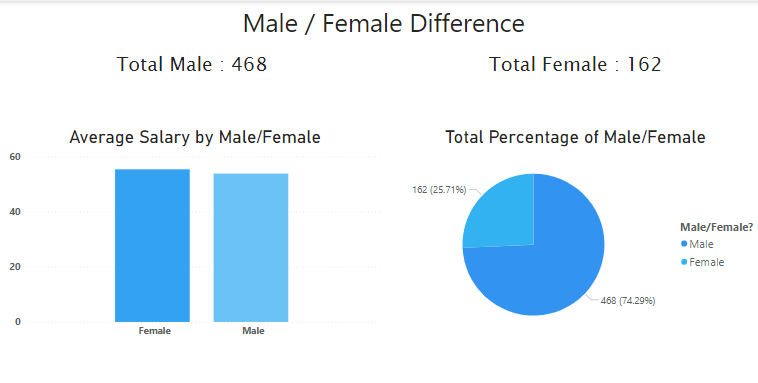

The dashboard page shown, as its layout file describes it:
{"tool":"powerbi","page":{"name":"Male/Female","canvas":[1280,720],"ordinal":2},"visuals":[{"type":"pieChart","title":"Total Percentage of Male/Female","fields":{"Category":["Data Professional Survey.Q9 - Male/Female?"],"Y":["CountNonNull(Data Professional Survey.Unique ID)"]},"box":[640.8,208.6,639.2,362.1],"z":0},{"type":"columnChart","fields":{"Category":["Data Professional Survey.Q9 - Male/Female?"],"Y":["Avg(Data Professional Survey.Average Salary)"]},"box":[10,208.6,630.8,362.1],"z":1000},{"type":"textbox","box":[0,0,1280,77.3],"z":2001},{"type":"textbox","box":[0,76.8,640,73.4],"z":2002},{"type":"textbox","box":[640.8,76.8,639.2,73.4],"z":2004}]}

Visuals, with their boxes on the page's 1280x720 design canvas (x1, y1, x2, y2). These are canvas units, not pixel positions in the 758x383 screenshot, which may show the page scaled, cropped or inside an application window:
"Total Percentage of Male/Female" pieChart: x1=641 y1=209 x2=1280 y2=571
columnChart - Data Professional Survey.Q9 - Male/Female? x Avg(Data Professional Survey.Average Salary): x1=10 y1=209 x2=641 y2=571
textbox: x1=0 y1=0 x2=1280 y2=77
textbox: x1=0 y1=77 x2=640 y2=150
textbox: x1=641 y1=77 x2=1280 y2=150
